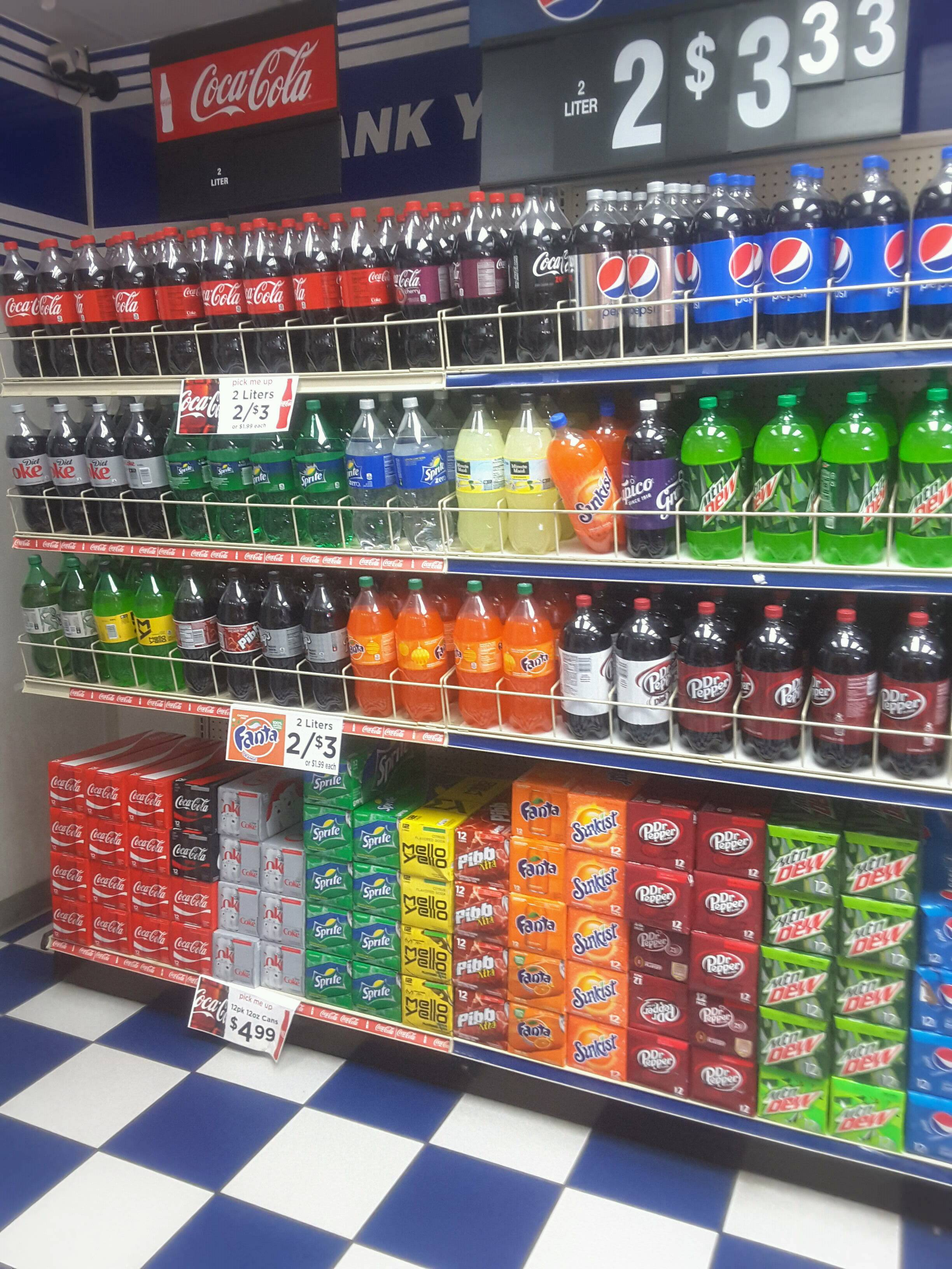Bottle: (836, 154, 903, 347), (695, 173, 758, 355), (771, 164, 832, 348), (810, 607, 875, 774), (823, 394, 886, 566), (884, 610, 949, 776), (744, 602, 809, 760), (895, 389, 952, 567), (509, 187, 564, 364), (451, 187, 506, 363), (570, 186, 625, 360), (549, 406, 613, 553), (678, 596, 739, 749), (632, 180, 685, 354), (684, 397, 740, 561), (758, 395, 814, 558), (626, 399, 677, 558), (395, 203, 445, 365), (911, 144, 952, 338), (619, 599, 670, 740), (562, 596, 613, 736), (395, 398, 441, 551), (347, 208, 390, 369), (347, 395, 392, 547), (396, 575, 441, 724), (509, 582, 553, 731), (455, 576, 499, 725), (298, 399, 342, 547), (250, 217, 292, 372), (506, 392, 547, 549), (457, 392, 498, 549), (350, 574, 393, 715), (205, 223, 245, 374), (298, 210, 335, 373), (160, 228, 200, 373), (308, 574, 350, 708), (263, 571, 305, 705), (218, 568, 261, 697), (166, 402, 206, 538), (253, 407, 292, 544), (78, 236, 116, 376), (210, 403, 249, 539), (38, 237, 76, 376), (19, 556, 61, 680), (5, 406, 46, 533), (176, 567, 217, 693), (126, 402, 163, 539), (119, 230, 154, 374), (87, 402, 123, 539), (3, 242, 38, 378), (137, 563, 173, 687), (49, 402, 82, 536), (99, 560, 131, 688), (64, 557, 96, 682)
Box: (763, 951, 830, 1015), (776, 833, 841, 897), (847, 833, 912, 897), (849, 899, 914, 961), (835, 1086, 901, 1144), (700, 814, 768, 870), (634, 868, 702, 924), (841, 1022, 906, 1080), (764, 1074, 830, 1131), (638, 808, 705, 864), (845, 965, 911, 1018), (627, 1035, 688, 1091), (692, 1060, 753, 1115), (703, 878, 764, 931), (692, 936, 753, 989), (693, 993, 754, 1046), (772, 898, 837, 946), (764, 1017, 826, 1067), (631, 928, 689, 977), (574, 964, 627, 1017), (572, 1025, 625, 1078), (631, 981, 688, 1030), (576, 857, 629, 909), (573, 910, 626, 962), (580, 798, 633, 850), (906, 1095, 952, 1152), (911, 1030, 952, 1091), (402, 979, 450, 1029), (405, 874, 453, 924), (457, 885, 509, 931), (462, 833, 514, 879), (913, 967, 952, 1028), (513, 1006, 562, 1054), (513, 951, 562, 999), (514, 898, 562, 947), (522, 842, 570, 891), (526, 787, 575, 835), (405, 926, 452, 976), (412, 823, 459, 873), (455, 991, 506, 1037), (455, 941, 506, 987), (306, 955, 353, 1001), (307, 903, 353, 949), (315, 759, 363, 803), (918, 904, 952, 965), (308, 857, 354, 902), (312, 808, 358, 853), (355, 965, 397, 1014), (356, 864, 398, 913), (356, 916, 398, 964), (214, 935, 255, 984), (256, 894, 299, 939), (166, 879, 210, 921), (364, 812, 404, 858), (257, 948, 301, 989), (224, 789, 264, 833), (135, 782, 174, 826), (180, 786, 218, 830), (126, 872, 166, 912), (168, 927, 206, 969), (49, 854, 86, 896), (217, 888, 256, 927), (261, 849, 299, 889), (52, 900, 88, 942), (219, 840, 257, 879), (131, 914, 166, 956), (89, 822, 125, 862), (94, 909, 129, 950), (172, 836, 207, 876), (131, 831, 166, 871), (51, 814, 86, 854), (57, 768, 90, 809), (97, 772, 130, 813), (95, 867, 129, 902)
